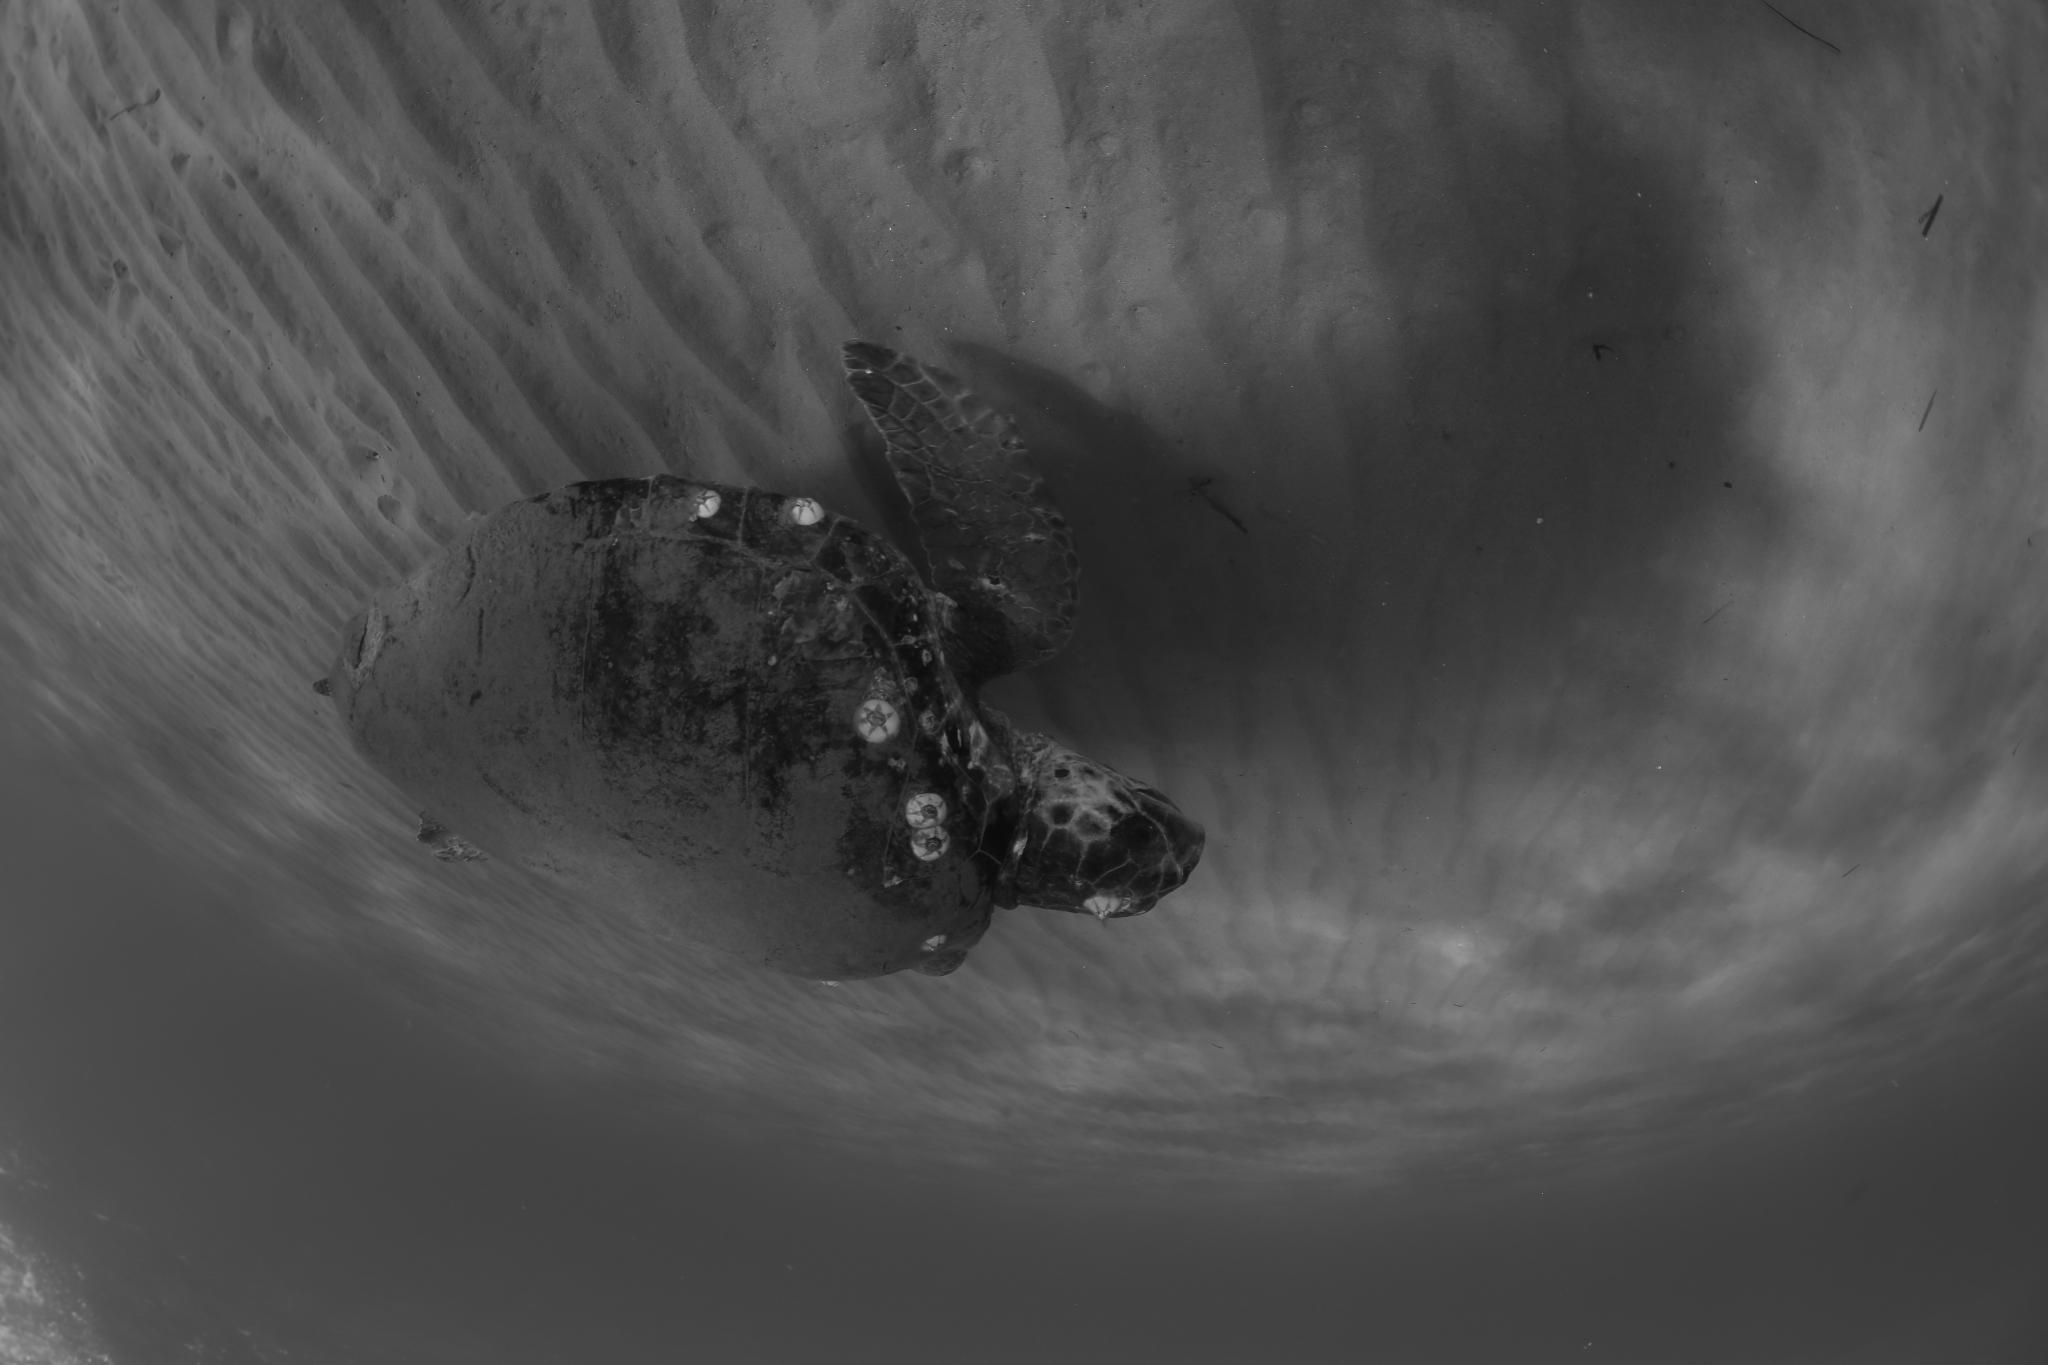Head: (984, 724, 1204, 919)
